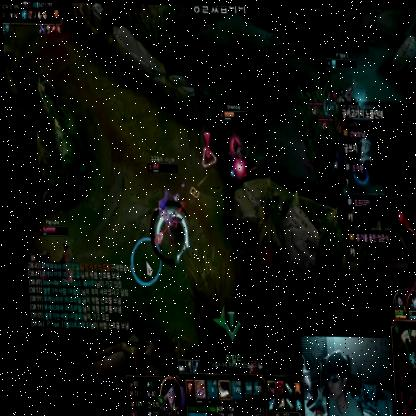streamer: (317, 345, 359, 416)
